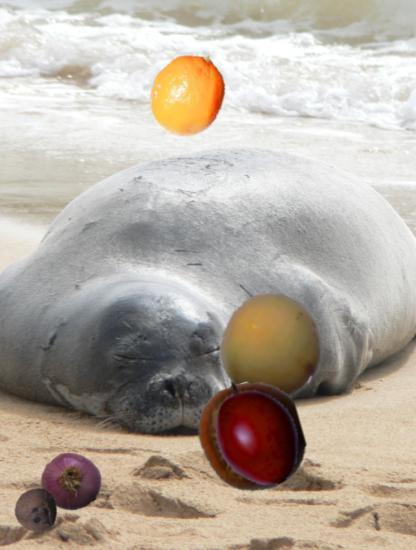Cocos: (13, 479, 69, 535)
Lemon: (143, 50, 232, 139)
Nut: (197, 382, 308, 493)
Onion: (41, 452, 101, 512)
Pepino: (215, 295, 329, 409)
Tamarillo: (199, 376, 312, 489)
